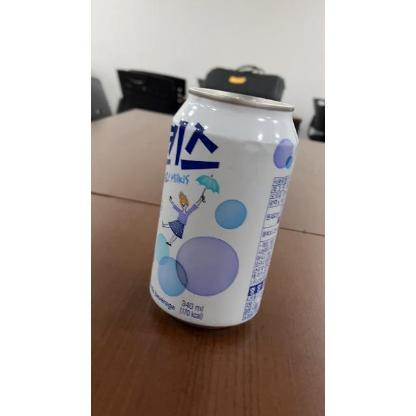Can: (147, 87, 300, 328)
